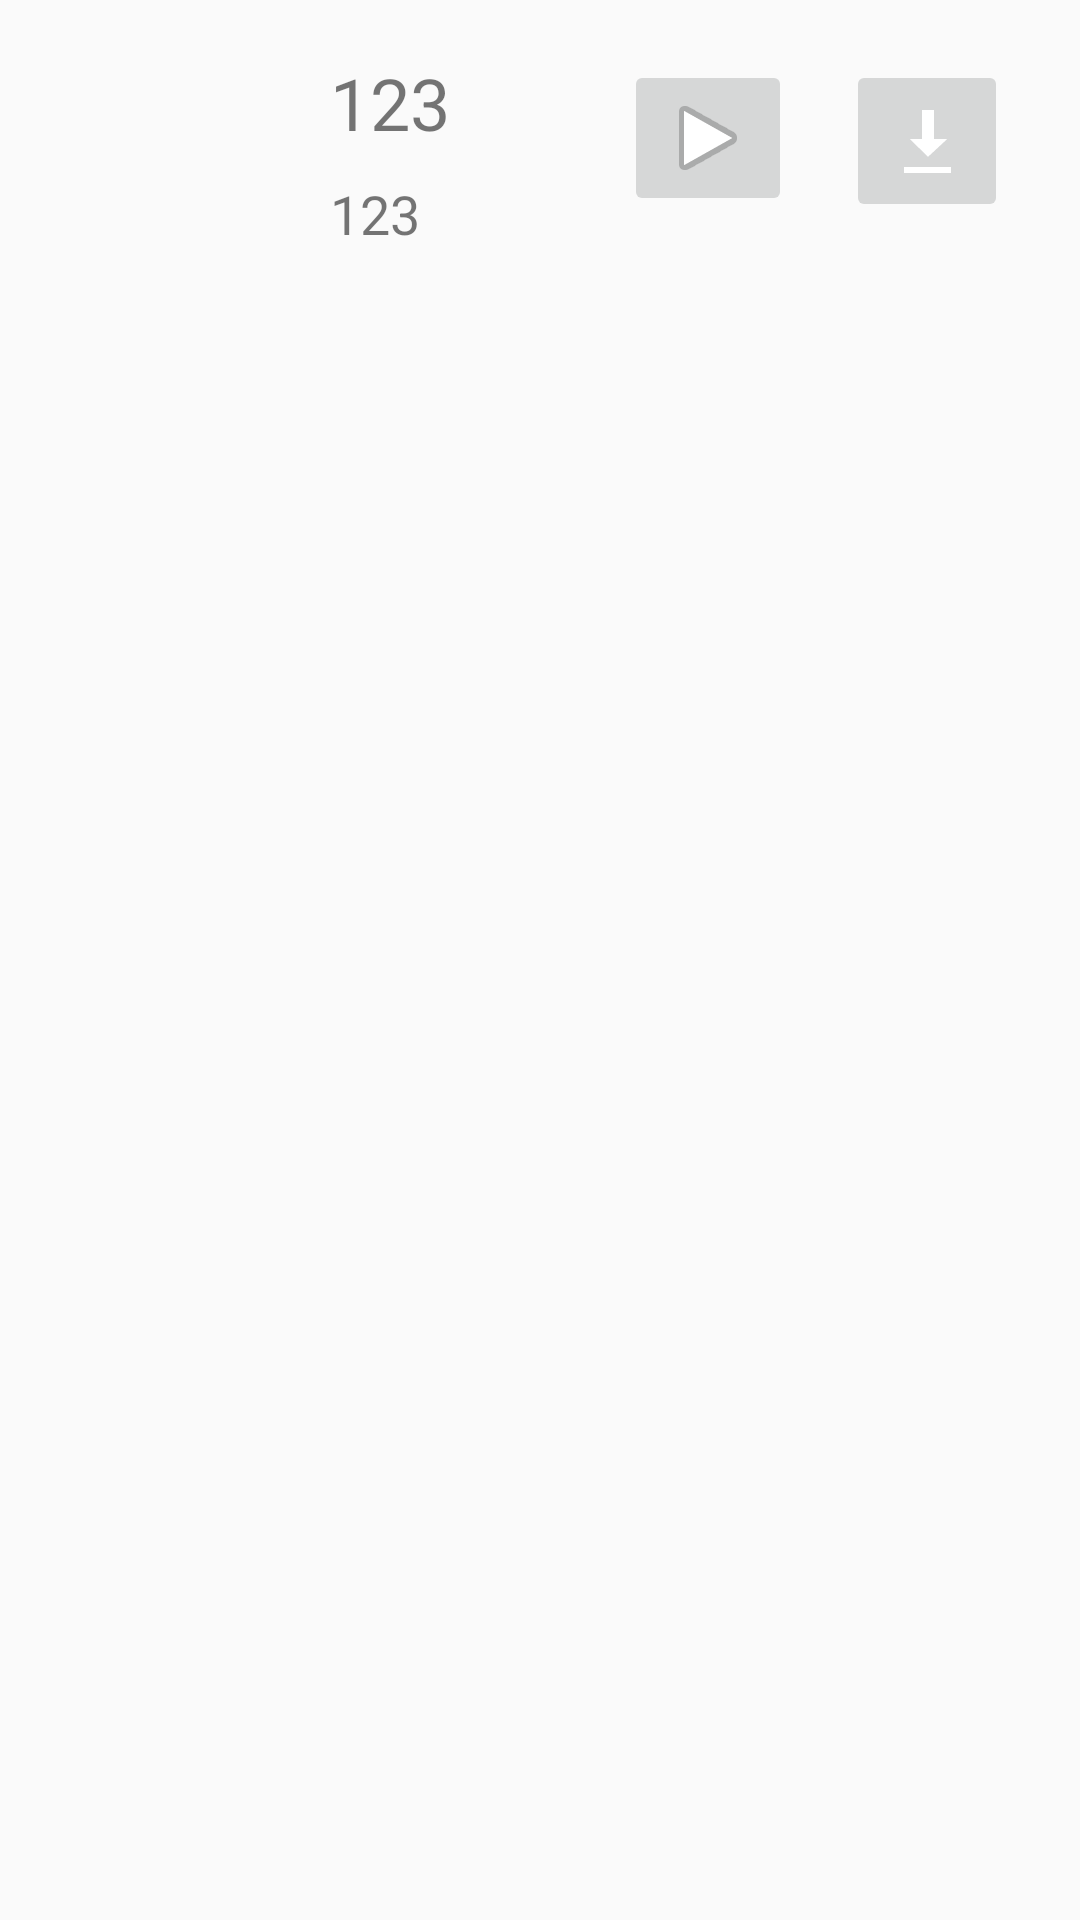

Named icons in this screenshot (1080w x 1920h) and their bounding boxes, (x1, y1, x2, y2):
download: (858, 78, 996, 204)
play: (636, 78, 780, 198)
